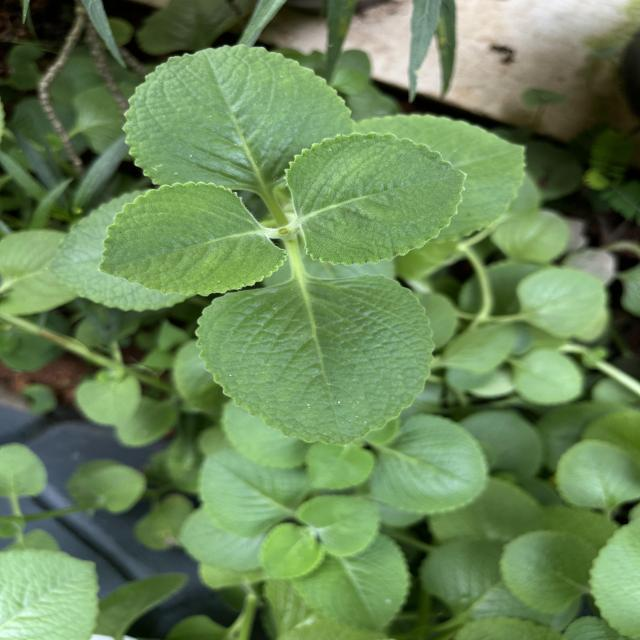Plectranthus barbatus: (194, 272, 436, 448), (121, 43, 357, 188), (282, 130, 470, 268), (96, 180, 290, 298)
